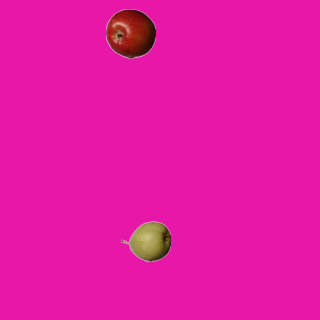Apple Braeburn: (105, 8, 155, 58)
Pear: (120, 216, 170, 266)
